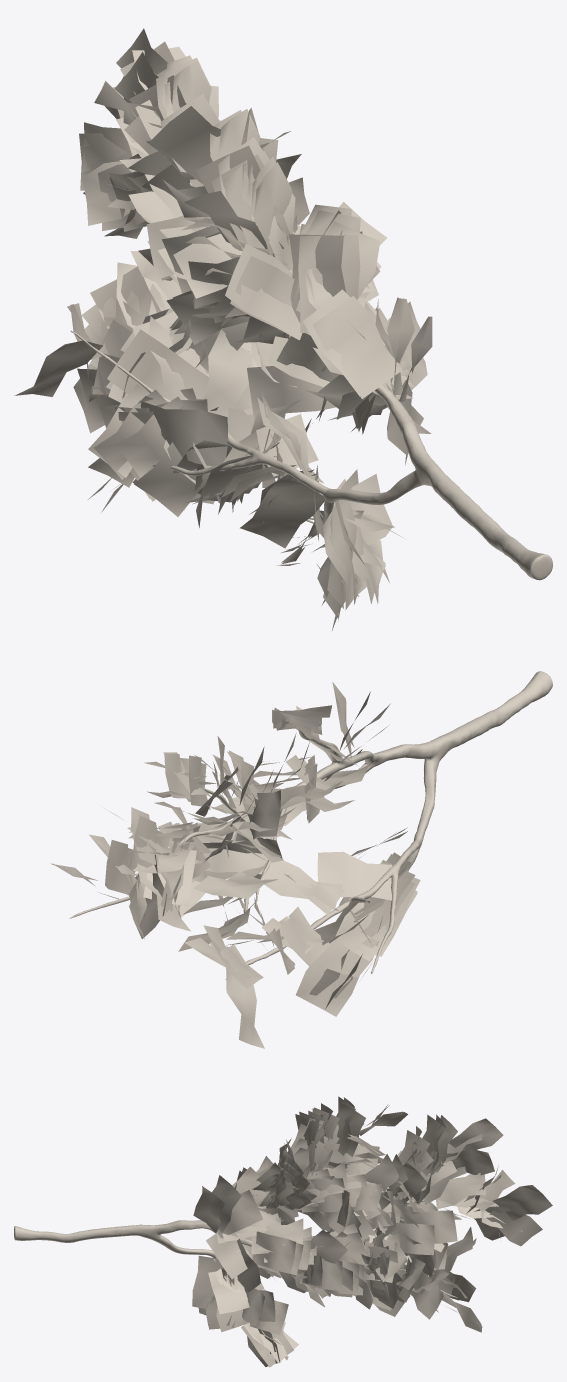
File: tree_original.glb
3 views of the same model, one above another, from view 1: azimuth 30°, elevation 25°; view 2: azimuth 150°, elevation 25°; view 3: azimuth 270°, elevation 25° (orthographic). The views are drawn at different scales.
Visible parts, largest first — view 1: world; view 2: world; view 3: world.
Boxes of the visible parts, <box> form: world: <box>14,28,552,630</box>; world: <box>50,671,552,1048</box>; world: <box>14,1096,552,1367</box>.
Bounding box in the file's own units: 0.8365 × 0.9967 × 1.79.
